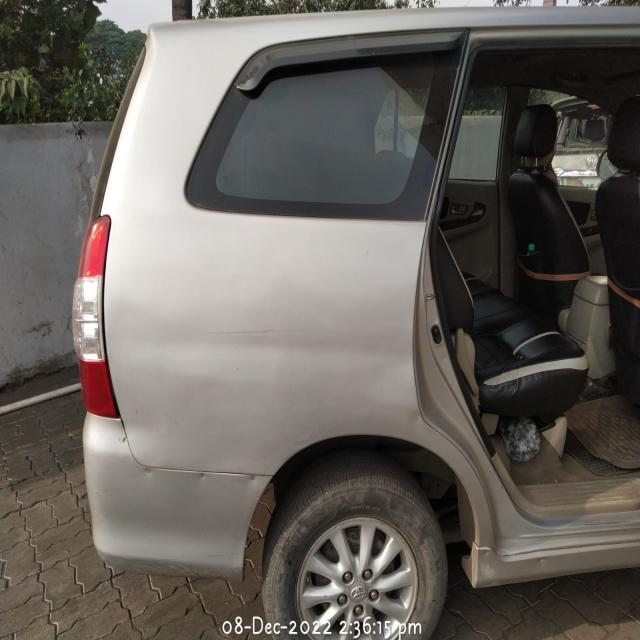damage: (208, 316, 306, 358), (112, 428, 130, 453)
